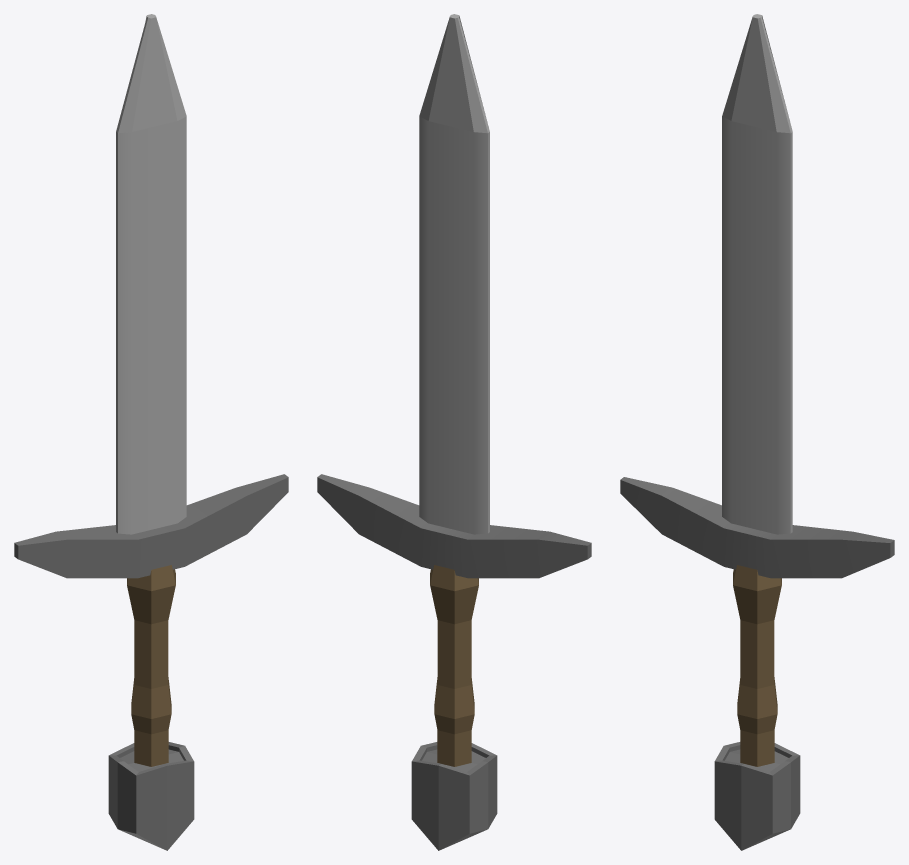
Rendered from Sword.fbx.
3 renders of one model, left to right at view 1: azimuth 30°, elevation 25°; view 2: azimuth 150°, elevation 25°; view 3: azimuth 330°, elevation 25°, orthographic.
Visible parts, largest first — view 1: pCube4; view 2: pCube4; view 3: pCube4.
Part boxes in pixels (x1,y1,x2,y2): pCube4: [14, 14, 288, 850]; pCube4: [317, 14, 591, 850]; pCube4: [620, 14, 894, 850].
Size of the model in its own units: 4.32 by 12.57 by 0.8864.
